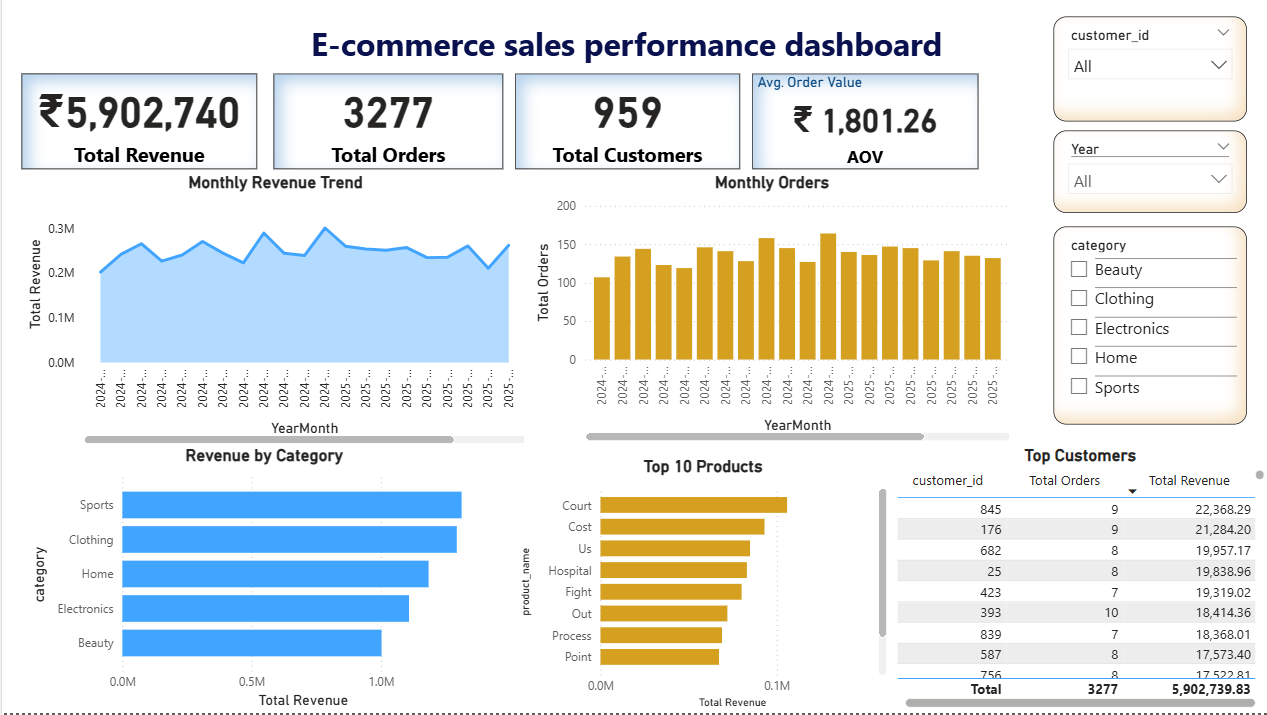

What the dashboard file says about the page in this screenshot:
{"tool":"powerbi","page":{"name":"Page 1","canvas":[1280,720],"ordinal":0},"visuals":[{"type":"card","fields":{"Values":["Measures (2).Total Orders"]},"box":[274.1,74.2,231.7,96.9],"z":0},{"type":"card","fields":{"Values":["Measures (2).Total Customers"]},"box":[517.9,74.2,227.1,96.9],"z":1000},{"type":"card","title":"Avg. Order Value","fields":{"Values":["Measures (2).AOV"]},"box":[757.1,74.2,228.6,96.9],"z":2000},{"type":"textbox","box":[257.4,16.7,746.5,57.5],"z":3000},{"type":"card","fields":{"Values":["Measures (2).Total Revenue"]},"box":[19.7,74.2,237.7,96.9],"z":4000},{"type":"areaChart","title":"Monthly Revenue Trend","fields":{"Category":["DateTable.YearMonth"],"Y":["Measures (2).Total Revenue"]},"box":[19.7,174.1,513.3,278.6],"z":5000},{"type":"clusteredColumnChart","title":"Monthly Orders","fields":{"Category":["DateTable.YearMonth"],"Y":["Measures (2).Total Orders"]},"box":[533,174.1,489.1,275.6],"z":6000},{"type":"clusteredBarChart","title":"Revenue by Category","fields":{"Category":["ecommerce products.category"],"Y":["Measures (2).Total Revenue"]},"box":[24.2,449.7,481.5,269.5],"z":7000},{"type":"barChart","title":"Top 10 Products","fields":{"Category":["ecommerce products.product_name"],"Y":["Measures (2).Total Revenue"]},"box":[517.9,460.3,380.1,258.9],"z":8000},{"type":"tableEx","title":"Top Customers","fields":{"Values":["ecommerce customers.customer_id","Measures (2).Total Orders","Measures (2).Total Revenue"]},"box":[897.9,449.7,381.6,269.5],"z":9000},{"type":"slicer","fields":{"Values":["ecommerce customers.customer_id"]},"box":[1061.5,16.7,195.3,106],"z":10000},{"type":"slicer","fields":{"Values":["ecommerce products.category"]},"box":[1061.5,228.6,195.3,199.9],"z":11000},{"type":"slicer","fields":{"Values":["DateTable.YearMonth"]},"box":[1061.5,131.7,195.3,83.3],"z":12000}]}

Visuals, with their boxes in screenshot pixels (x1, y1, x2, y2), scaled from the page's 1280x720 canvas onto the 1267x715 screenshot:
card - Measures (2).Total Orders: 271:74:501:170
card - Measures (2).Total Customers: 513:74:737:170
"Avg. Order Value" card: 749:74:976:170
textbox: 255:17:994:74
card - Measures (2).Total Revenue: 19:74:255:170
"Monthly Revenue Trend" areaChart: 19:173:528:450
"Monthly Orders" clusteredColumnChart: 528:173:1012:447
"Revenue by Category" clusteredBarChart: 24:447:501:714
"Top 10 Products" barChart: 513:457:889:714
"Top Customers" tableEx: 889:447:1266:714
slicer - ecommerce customers.customer_id: 1051:17:1244:122
slicer - ecommerce products.category: 1051:227:1244:426
slicer - DateTable.YearMonth: 1051:131:1244:214
